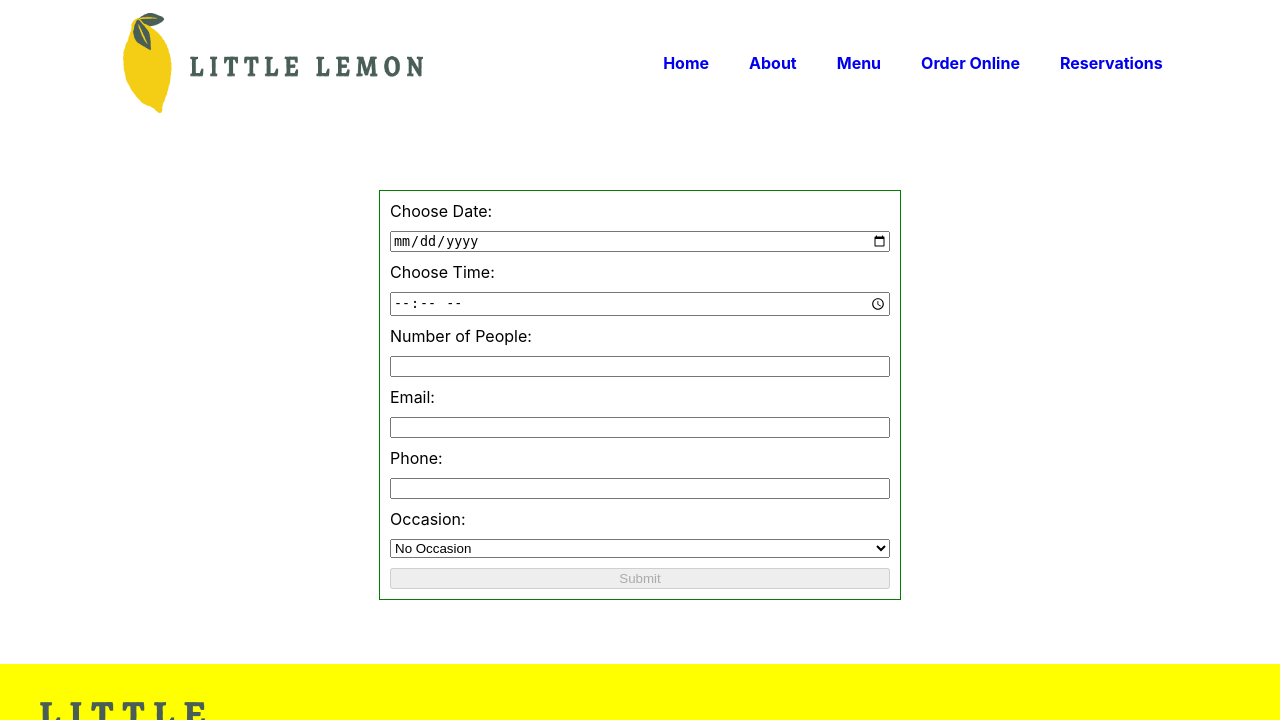
Scenario: Form submission and message display
Expected: the text "Your reservation has been registered !" is not shown
Type "2023-12-31" into the date field labelled "Choose Date:" at (640, 241), box top-left (390, 231), bottom-right (890, 252)
Type "18:00" into the time field labelled "Choose Time:" at (640, 304), box top-left (390, 292), bottom-right (890, 316)
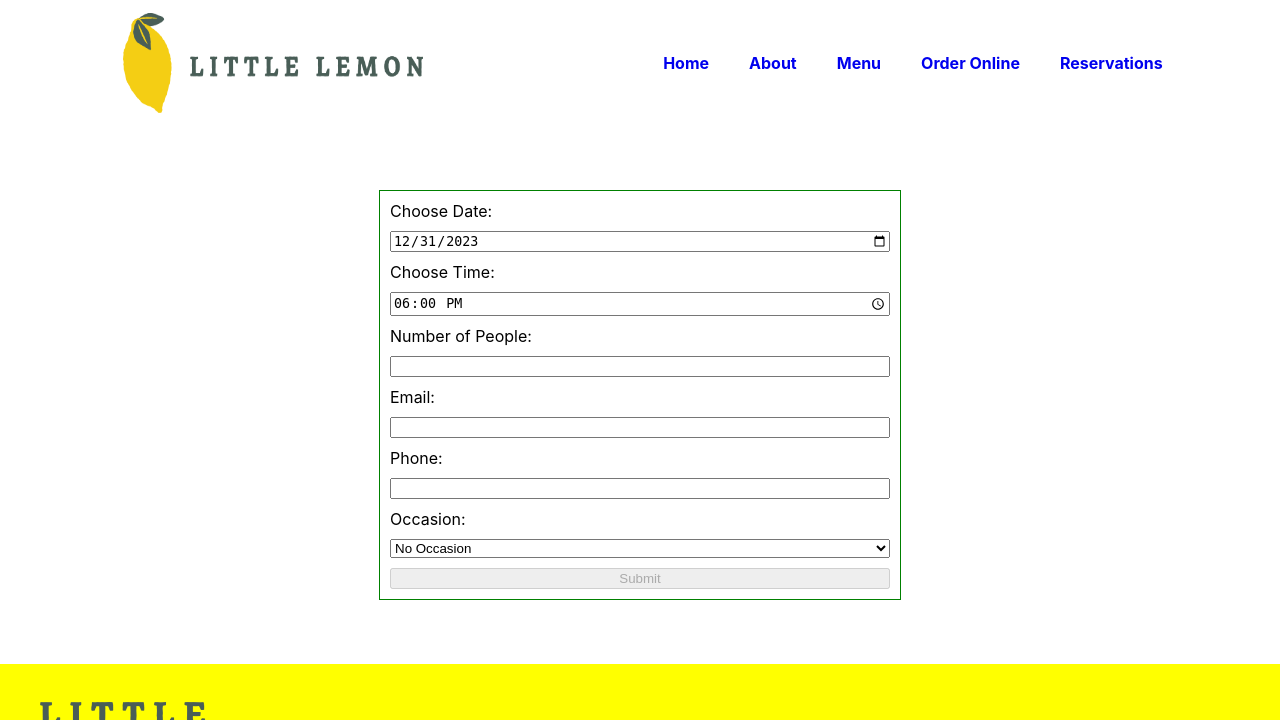
Type "5" into the number field labelled "Number of People:" at (640, 366), box top-left (390, 356), bottom-right (890, 377)
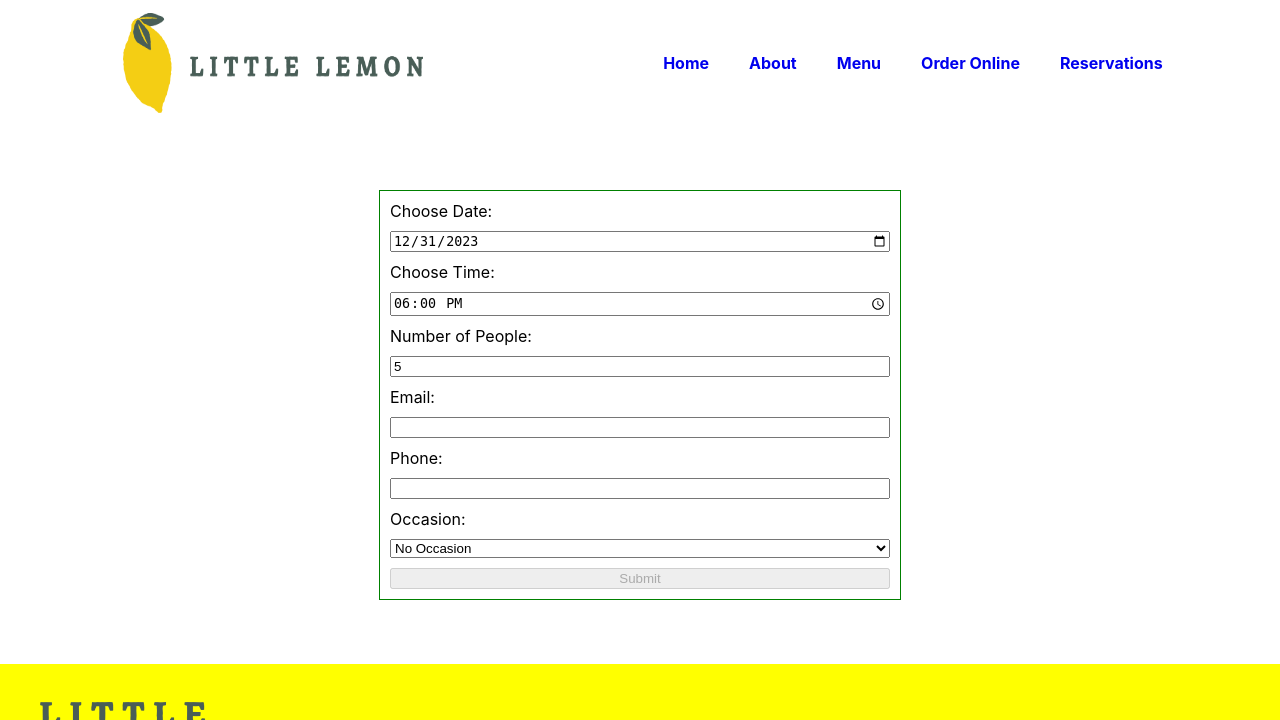
Type "test@example.com" into the field labelled "Email:" at (640, 427), box top-left (390, 417), bottom-right (890, 438)
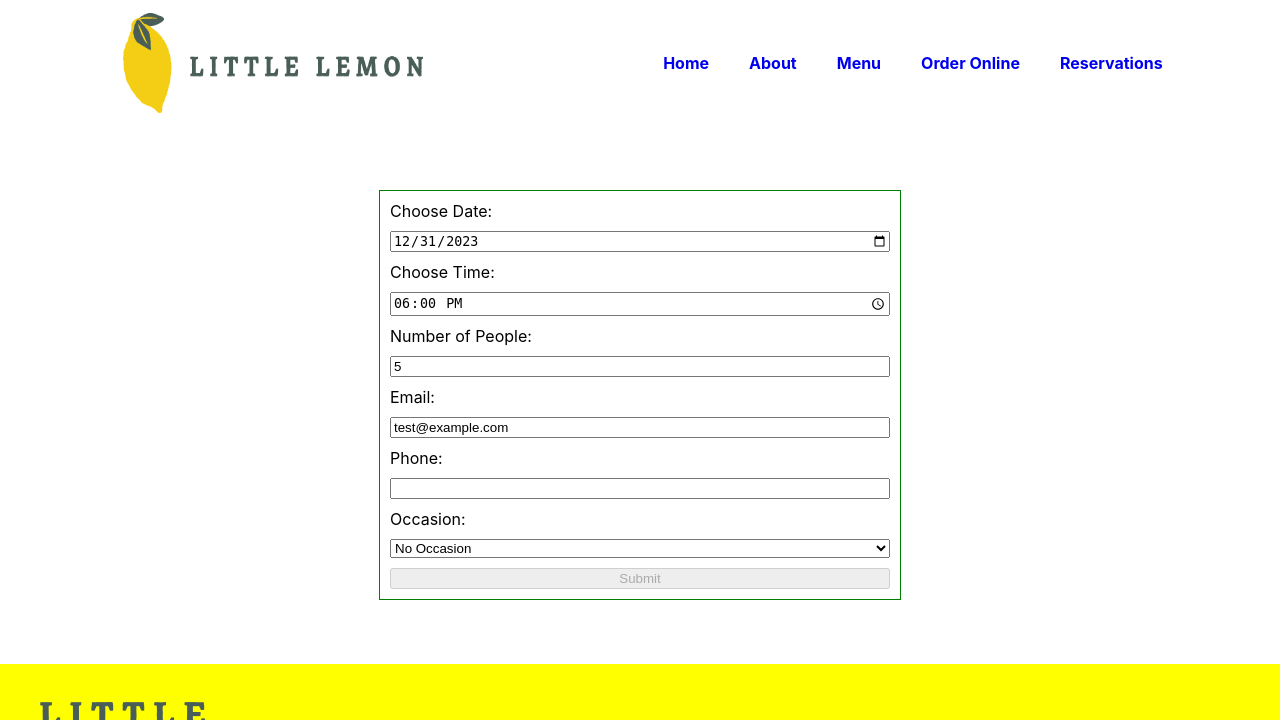
Type "1234567890" into the field labelled "Phone:" at (640, 488), box top-left (390, 478), bottom-right (890, 499)
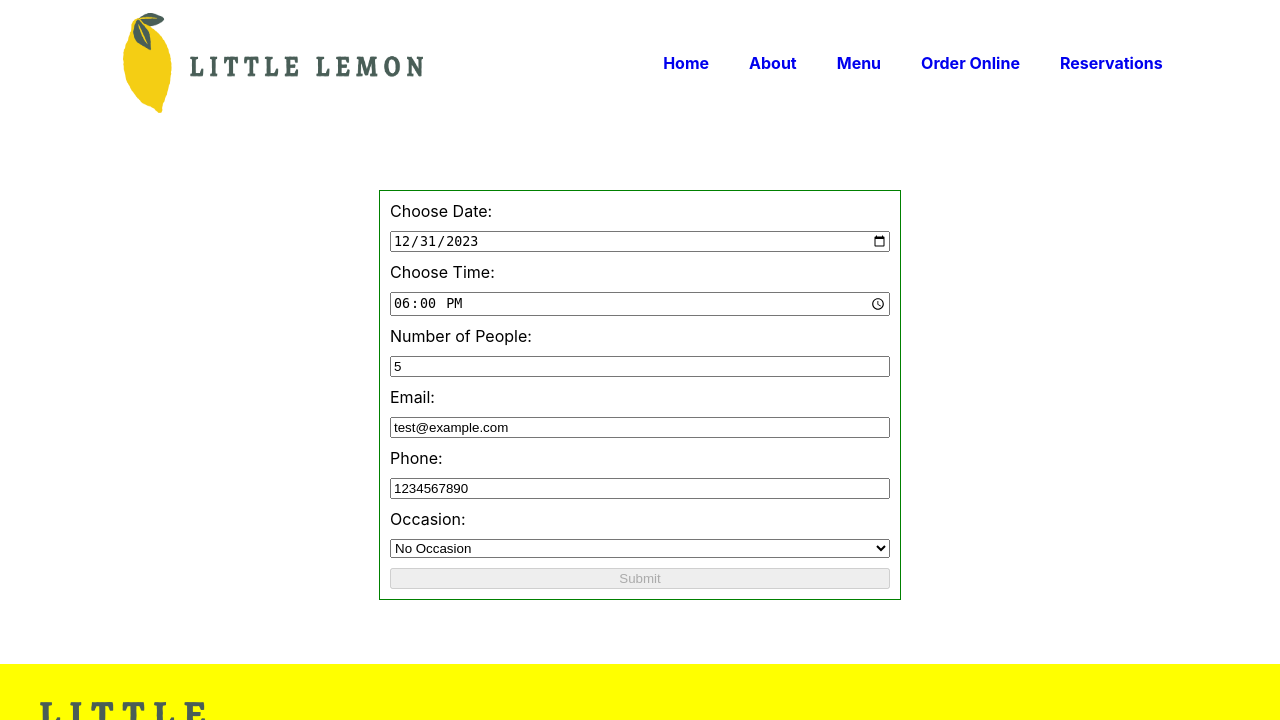
Select "Birthday" in the dropdown labelled "Occasion:" at (640, 548), box top-left (390, 539), bottom-right (890, 558)
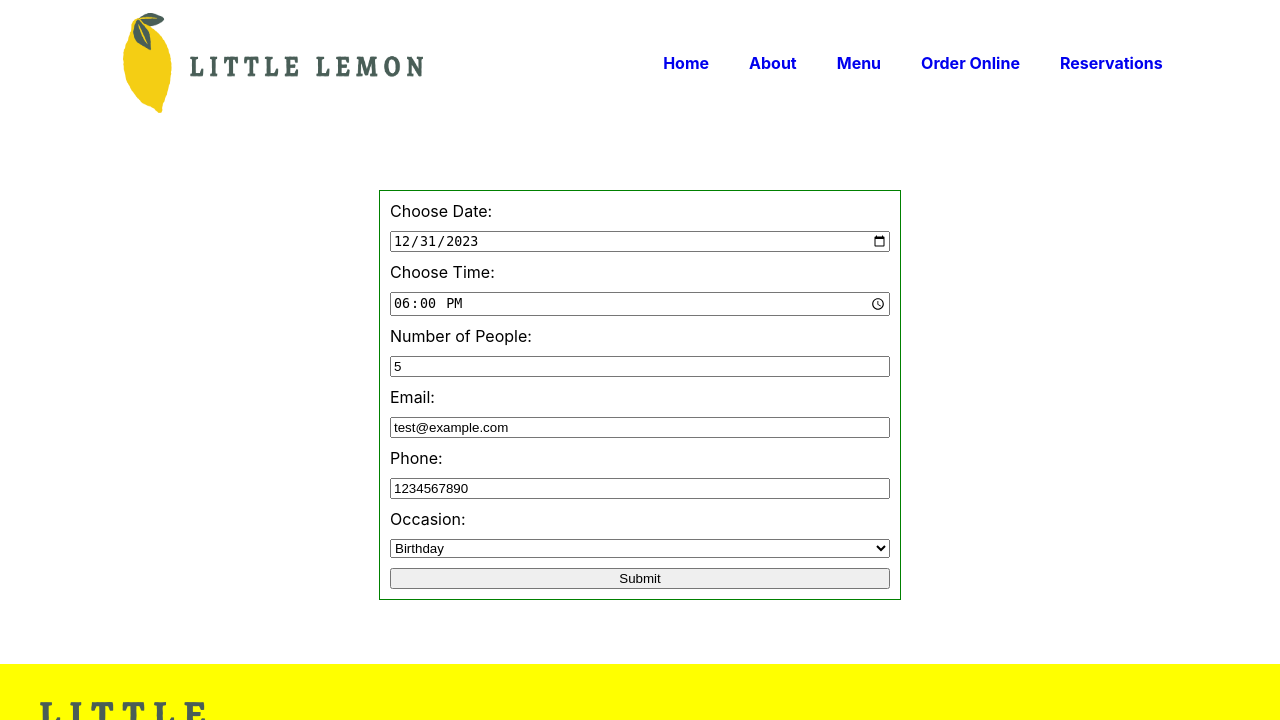
Click the button "Submit" at (640, 578), box top-left (390, 568), bottom-right (890, 589)
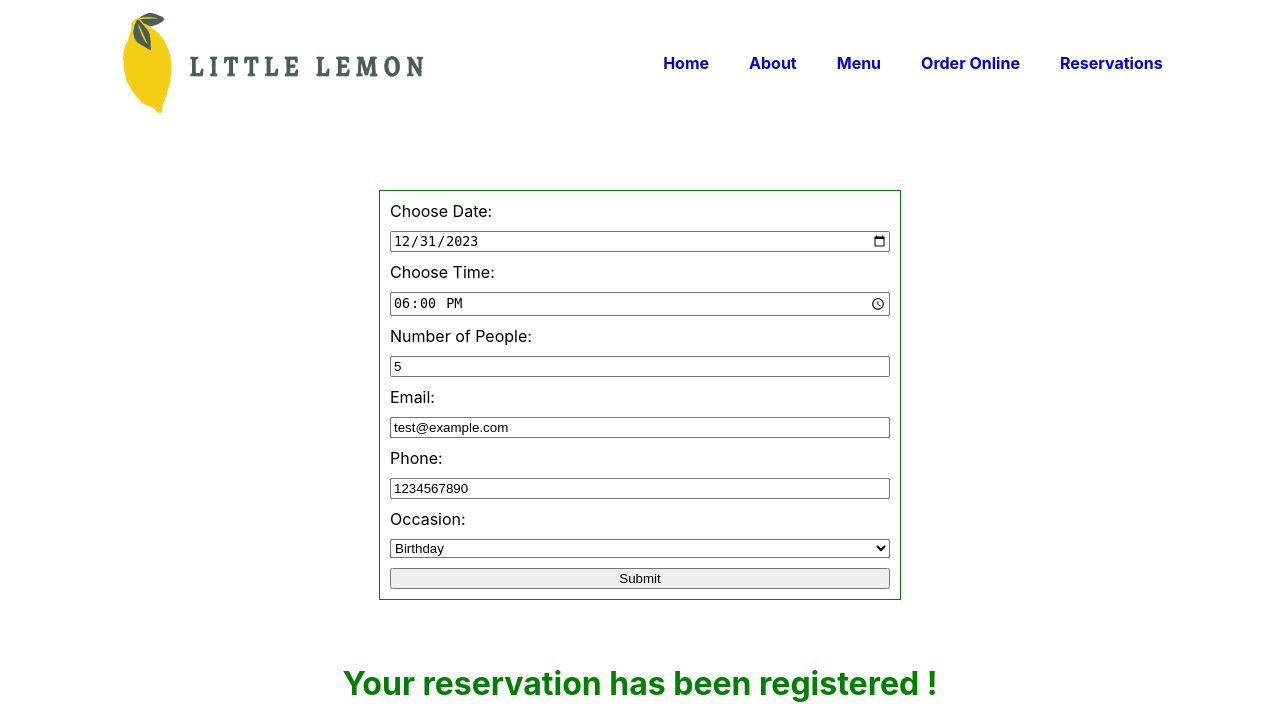
Expected: the heading "Your reservation has been registered !" is shown, top-left (342, 664), bottom-right (938, 703)
